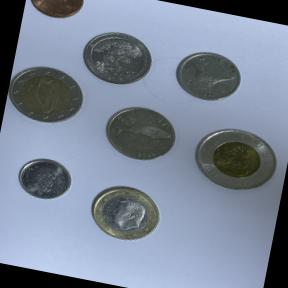1 Euro-B: (84, 177, 166, 248)
2 Euro-B: (2, 58, 94, 133)
Canada-10cent-B: (12, 148, 78, 206)
Canada-2Dollar-B: (186, 119, 283, 201)
Croatia-2Kune-B: (99, 97, 183, 168)
US-1cent-B: (23, 0, 88, 24)
US-25cent-B: (75, 24, 160, 92)
